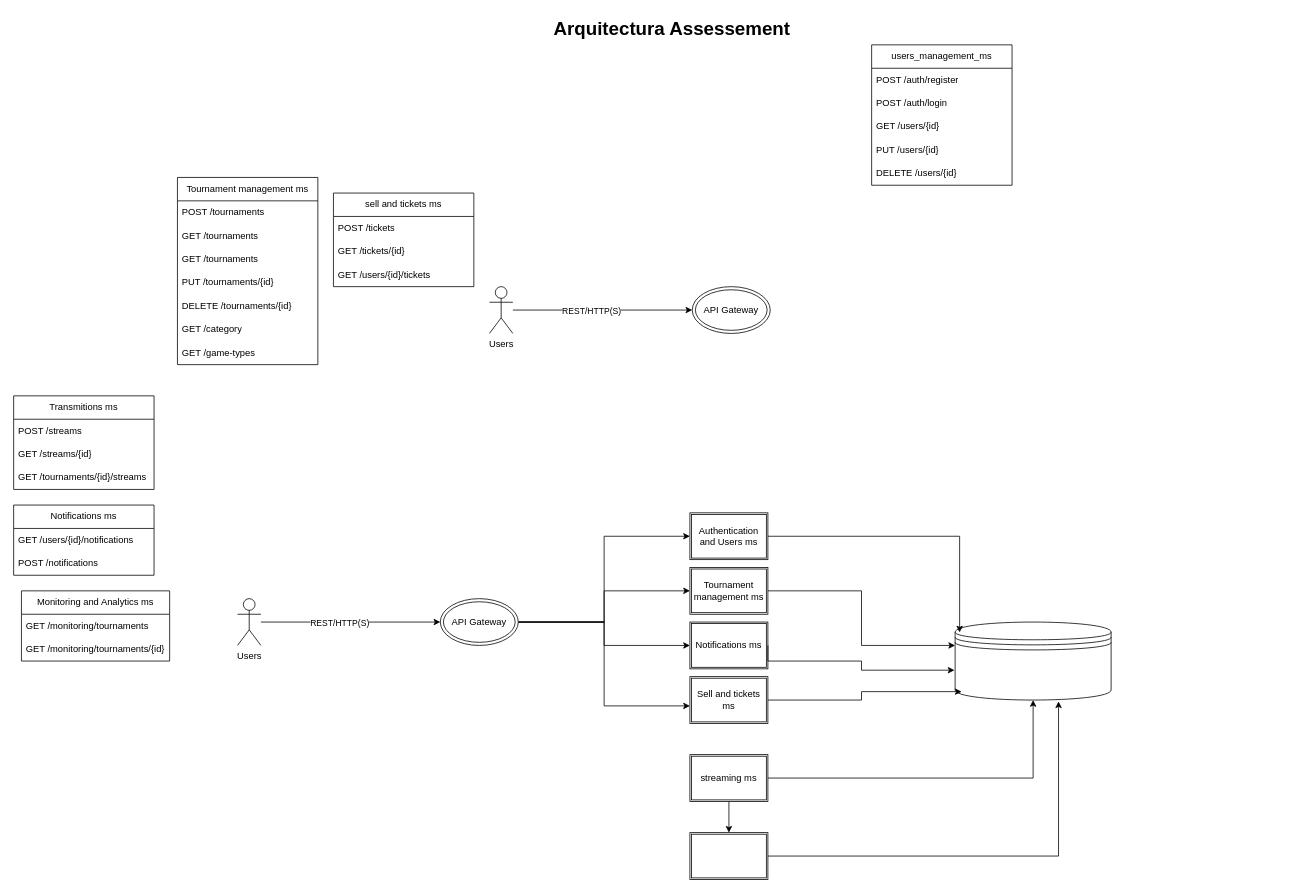
The diagram is 1308 pixels wide and 893 high, and some of its shapes have lost their labels. The shapes that lost their labels are listed below. From the top down, each one's centre as x and y in pixels, then its label:
At pixel 1032 660: "Database".
At pixel 728 855: "Monitoring and analytic ms".
